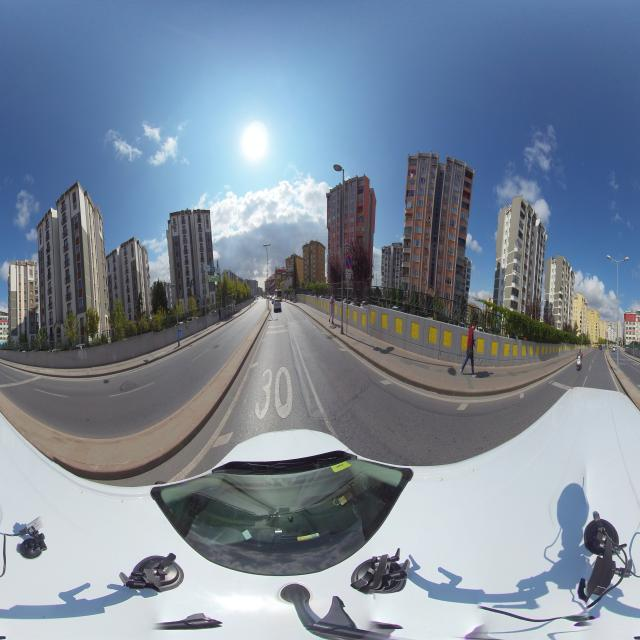SignStore: (626, 330, 635, 332), (626, 325, 634, 327)
